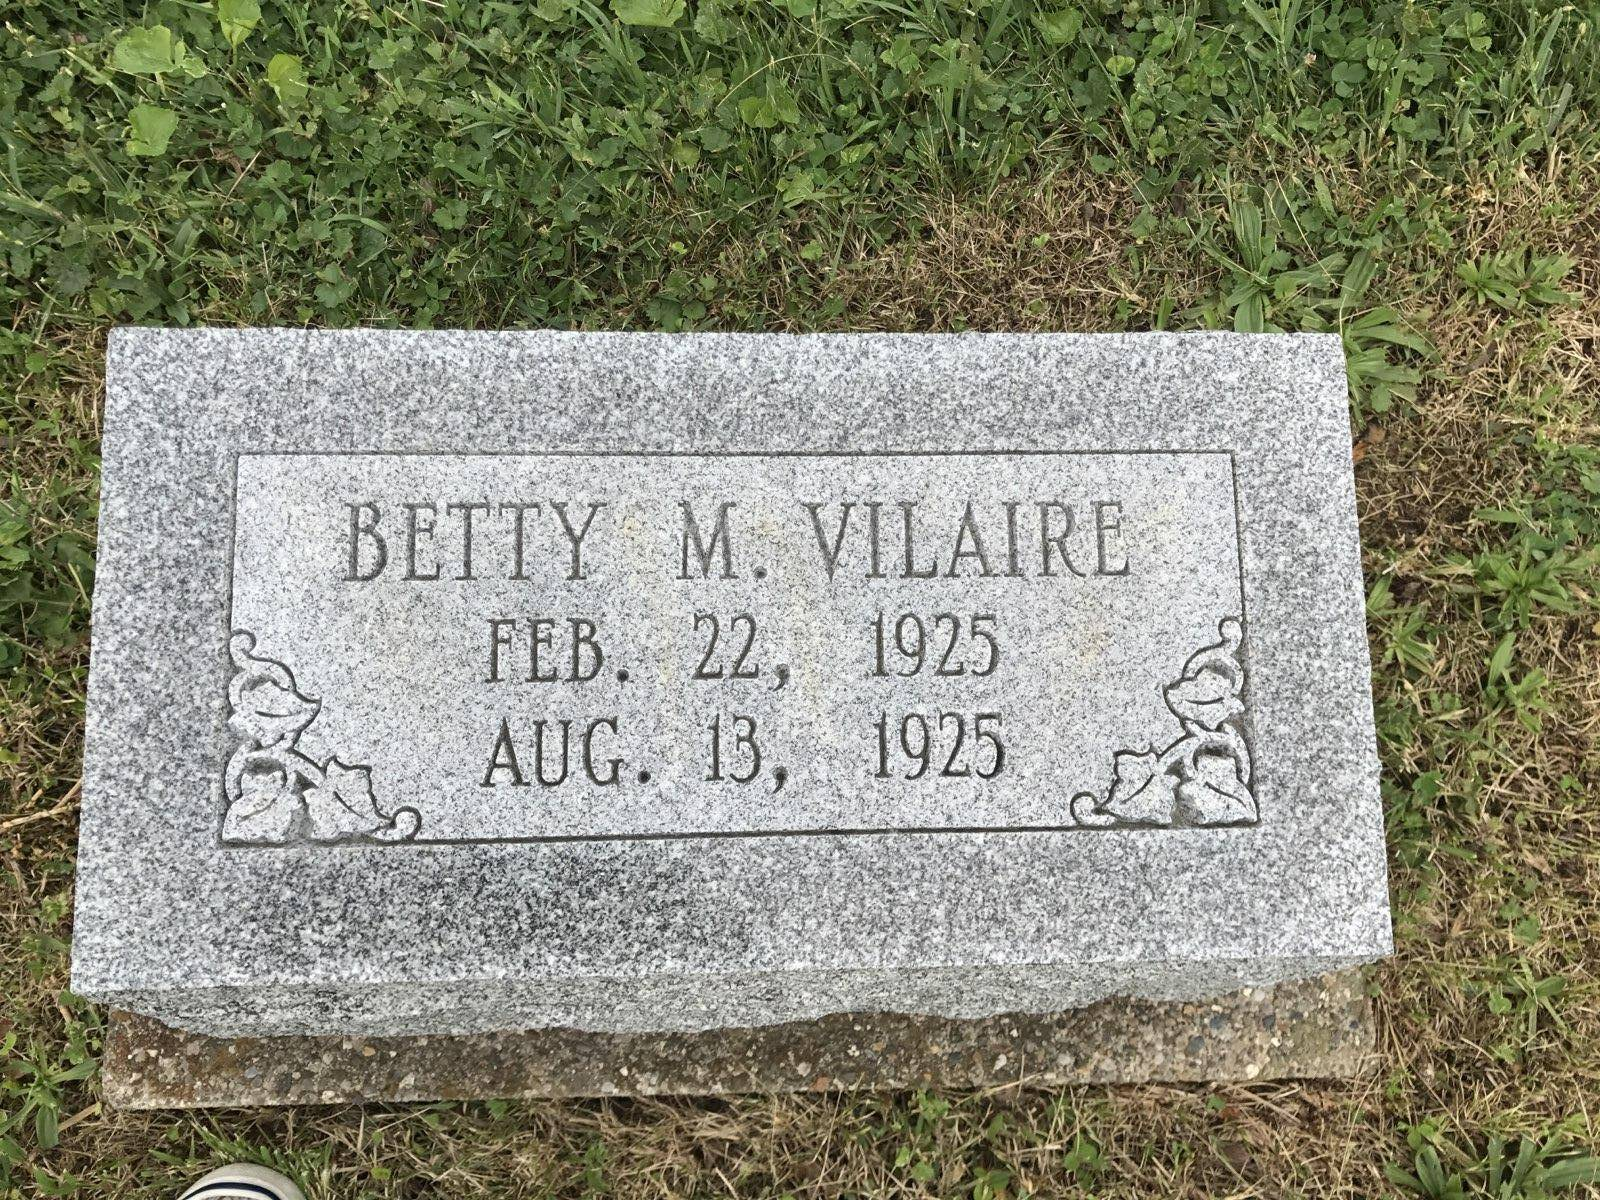flat: (68, 320, 1397, 1084)
